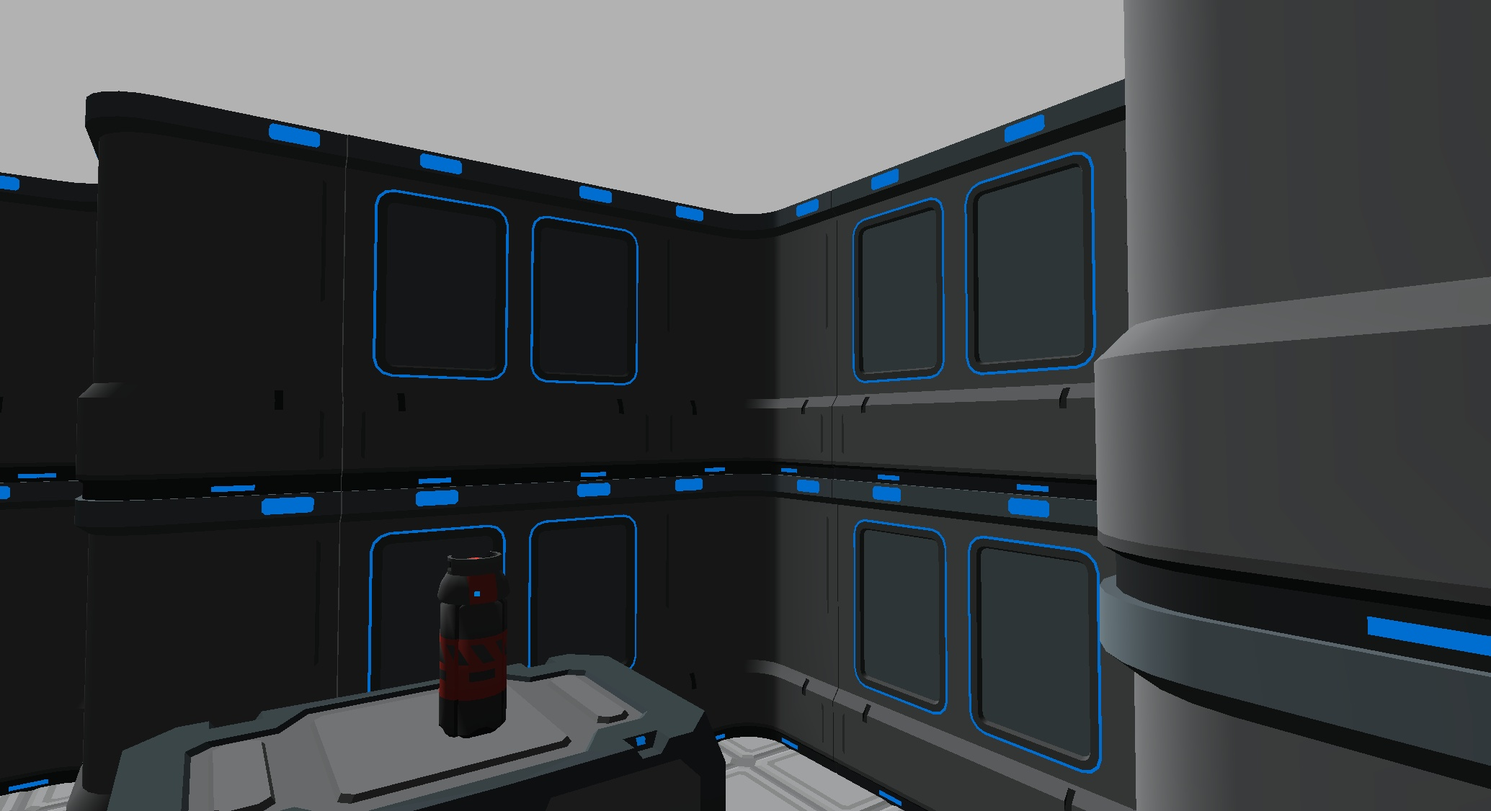red_barrel: (440, 552, 509, 737)
